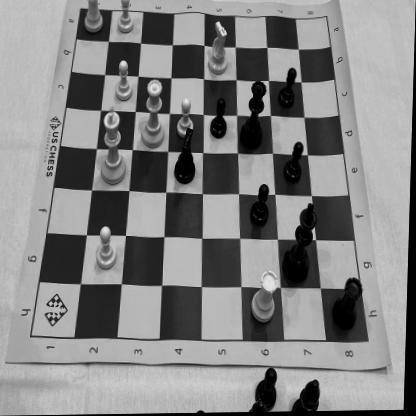black-king: (284, 203, 320, 286)
black-knight: (172, 130, 200, 187)
black-pawn: (283, 141, 307, 186), (250, 183, 273, 228), (209, 96, 231, 142), (278, 67, 298, 110)
black-queen: (238, 78, 269, 153)
black-rook: (334, 274, 364, 333)
white-king: (97, 104, 129, 186)
white-knight: (208, 19, 230, 78)
white-pawn: (93, 224, 119, 272), (113, 59, 136, 103), (175, 97, 196, 140), (115, 0, 136, 35)
white-queen: (139, 78, 170, 150)
white-rook: (251, 268, 280, 326), (82, 0, 108, 38)
